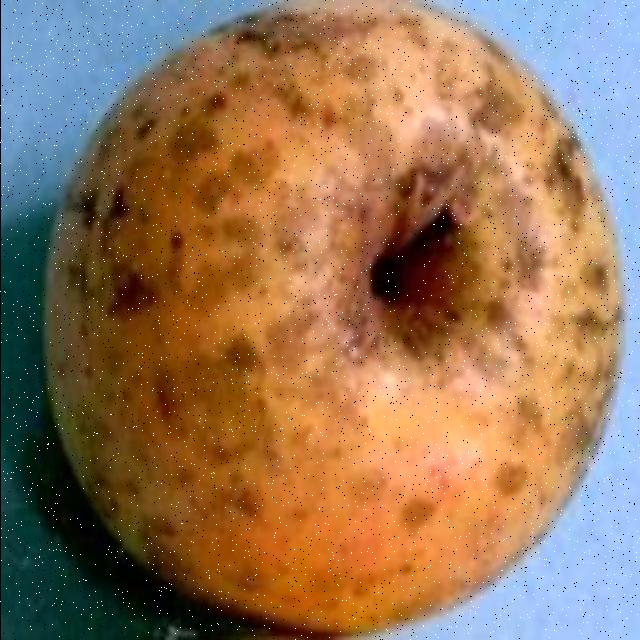BLOTCH: (2, 28, 626, 636)
